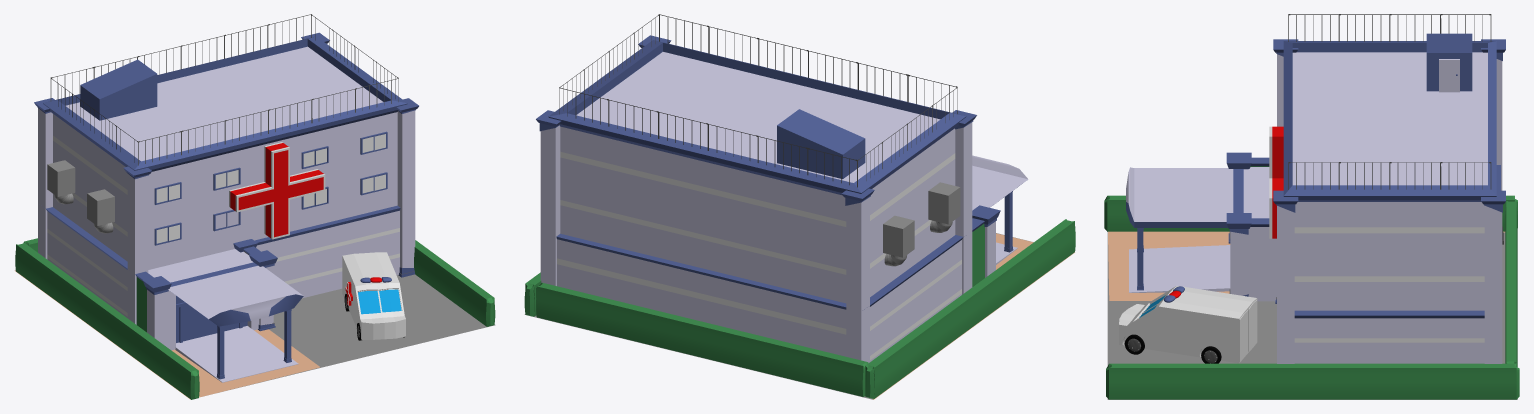
Rendered from predioMedNvl2.fbx.
3 views of the same model, side by side, from view 1: azimuth 30°, elevation 25°; view 2: azimuth 150°, elevation 25°; view 3: azimuth 270°, elevation 25° (orthographic). The views are drawn at different scales.
Visible parts, largest first — view 1: PredioMed; view 2: PredioMed; view 3: PredioMed.
Part boxes in pixels (<box>): PredioMed: <box>14,14,495,399</box>; PredioMed: <box>524,14,1075,399</box>; PredioMed: <box>1104,14,1519,399</box>.
Bounding box in the file's own units: 3944 × 2474 × 3996.
